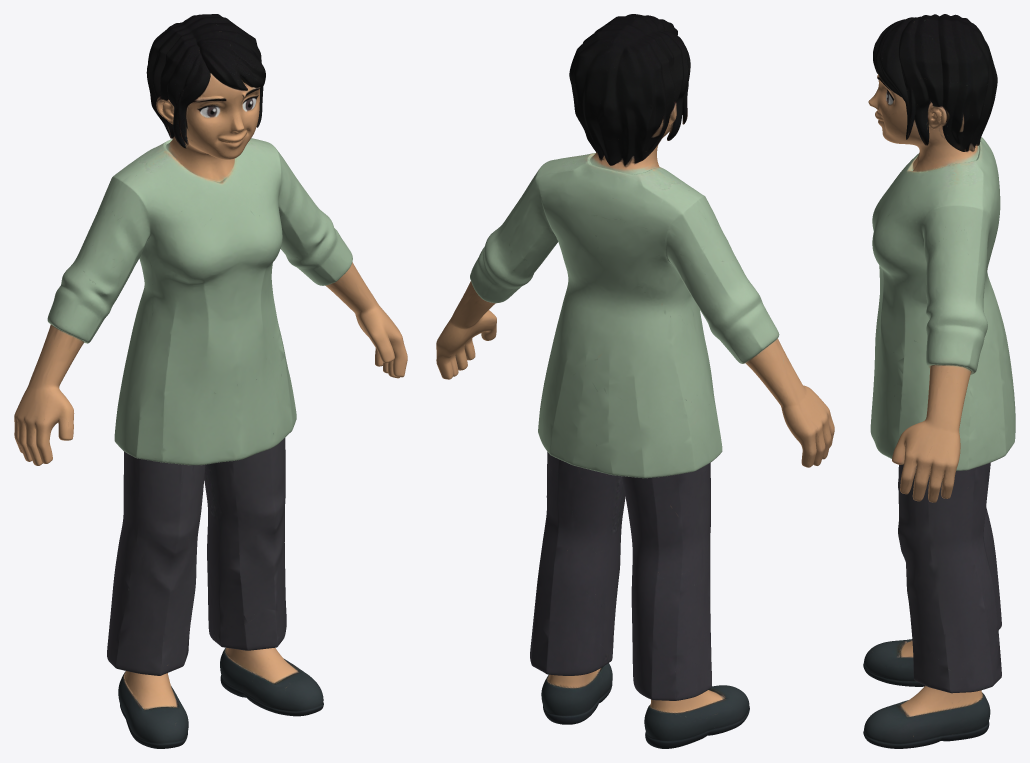
The model's file is Ibu_Original.glb.
The picture shows the model from 3 angles, left to right: view 1: azimuth 30°, elevation 25°; view 2: azimuth 150°, elevation 25°; view 3: azimuth 270°, elevation 25°; orthographic projection.
Visible parts, largest first — view 1: Ibu_Meshy; view 2: Ibu_Meshy; view 3: Ibu_Meshy.
Part boxes in pixels (x1,y1,x2,y2): Ibu_Meshy: (14,14,407,748); Ibu_Meshy: (436,14,834,748); Ibu_Meshy: (863,14,1015,748).
Bounding box in the file's own units: 0.9464 × 1.65 × 0.3306.
1 material, 1 textured.
